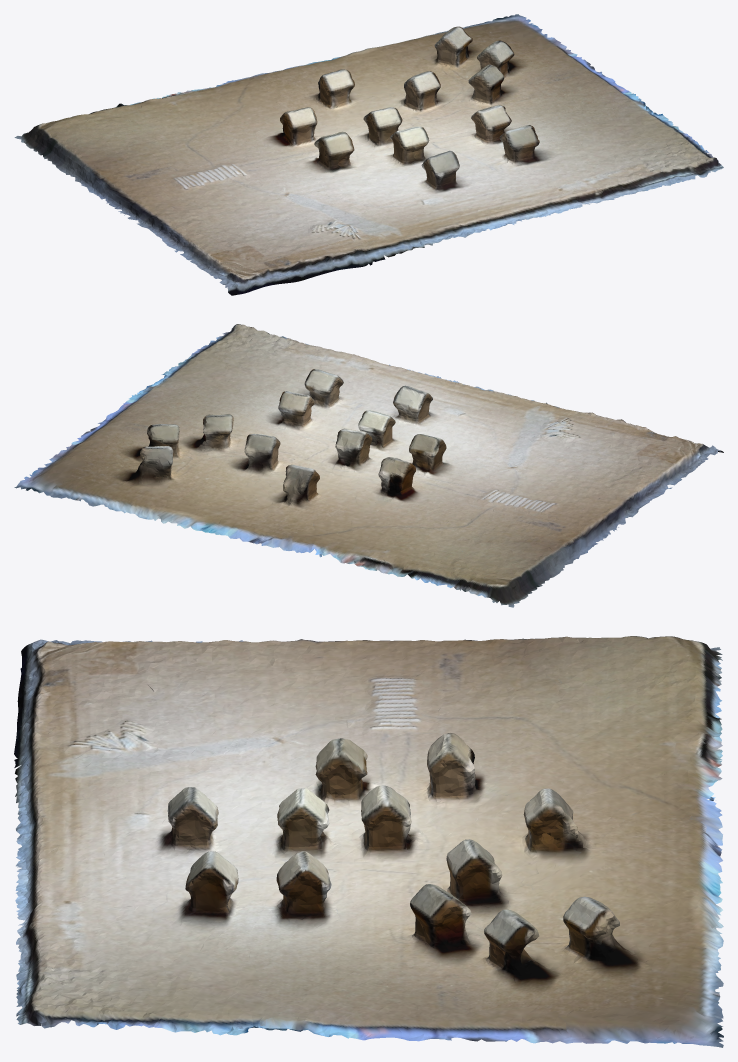
File: 3D-Scan.fbx
3 renders of one model, top to bottom at view 1: azimuth 30°, elevation 25°; view 2: azimuth 150°, elevation 25°; view 3: azimuth 270°, elevation 25°, orthographic. The views are drawn at different scales.
Visible parts, largest first — view 1: Mesh_0; view 2: Mesh_0; view 3: Mesh_0.
Part boxes in pixels (x1,y1,x2,y2): Mesh_0: (14, 14, 723, 295); Mesh_0: (14, 324, 723, 607); Mesh_0: (14, 636, 723, 1047).
Size of the model in its own units: 55.69 by 4.51 by 41.78.
Materials: 1 (1 with a texture image).
